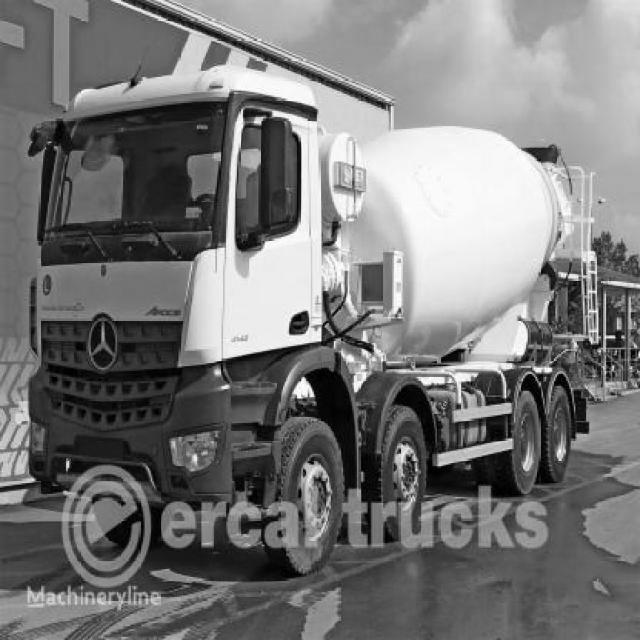Concrete Mixer: (26, 67, 591, 576)
